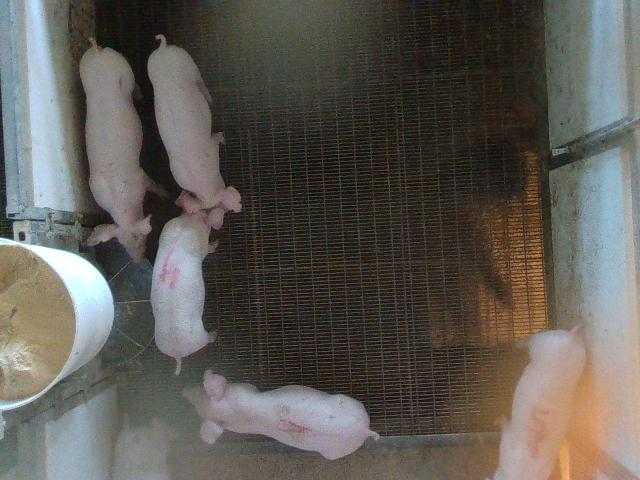pig-1: (182, 370, 379, 459)
pig-3: (494, 328, 586, 479)
pig-4: (151, 206, 225, 374)
